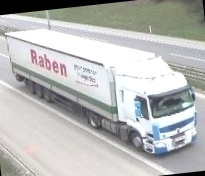truck: (3, 13, 205, 171)
